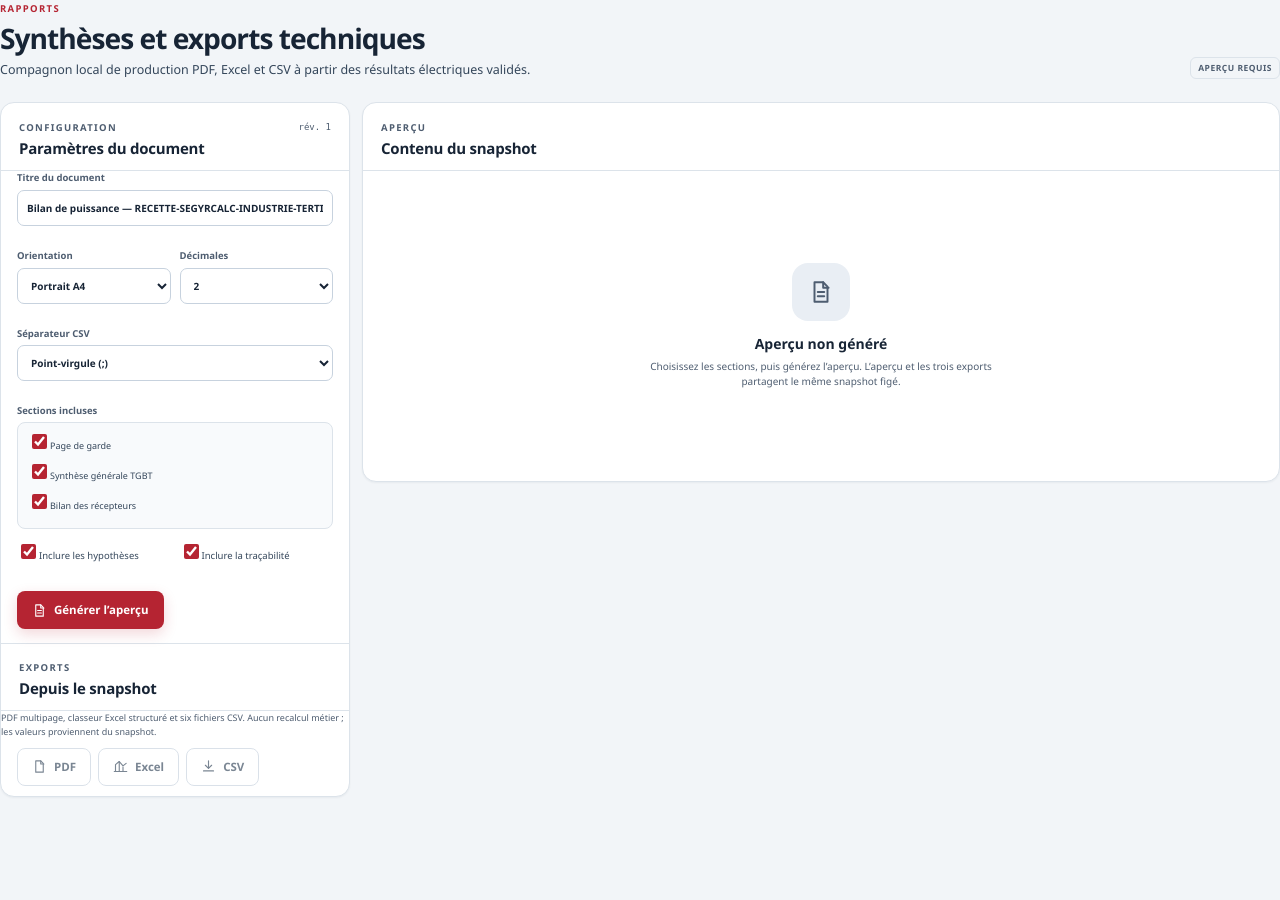
Scenario: ReportsScreen › génère un aperçu depuis le snapshot et affiche les valeurs moteur
The width and height of the screenshot is (1280, 900).
Click the button with test id "report-preview-generate": (90, 610) [17, 591, 164, 629]
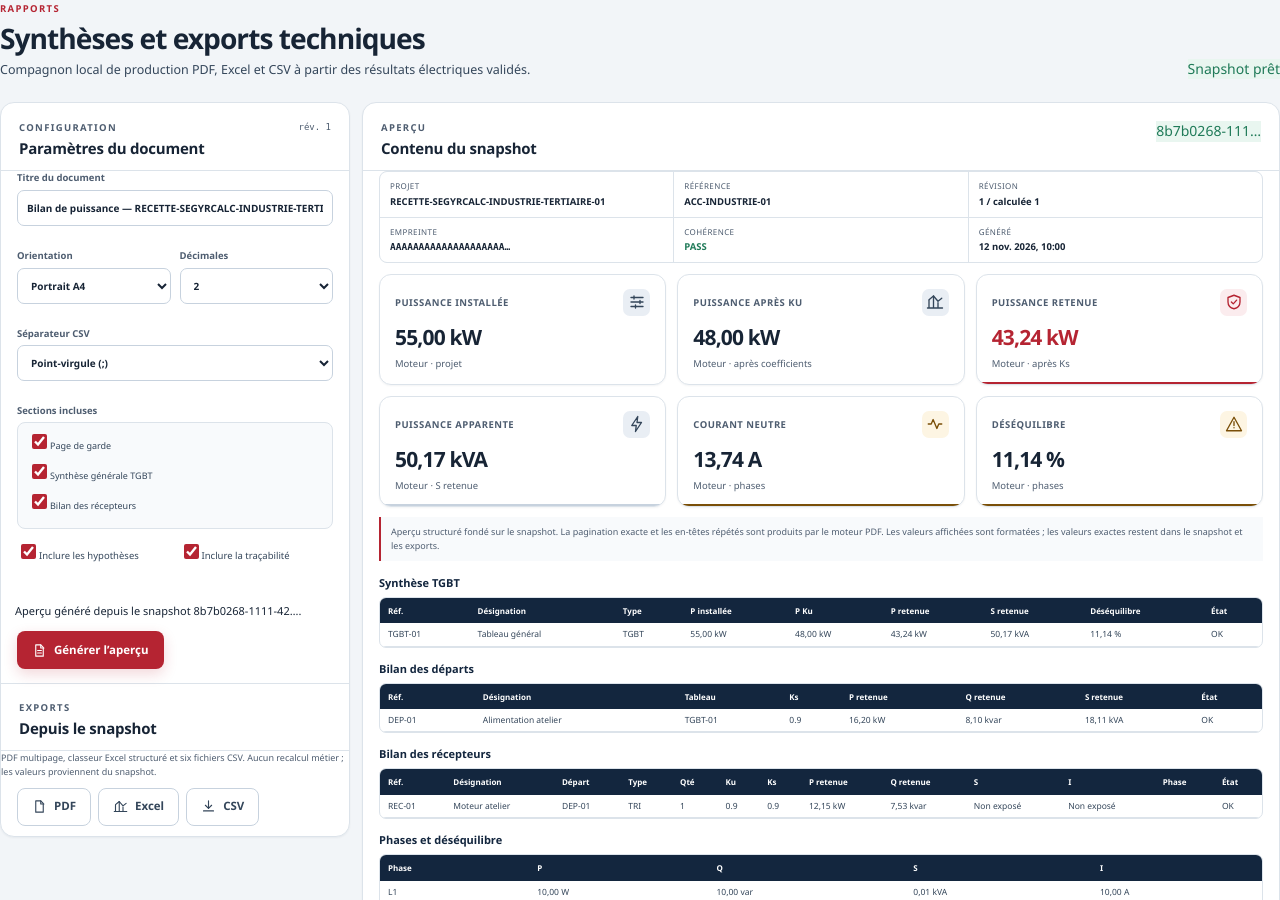
Now the text with test id "report-snapshot" shows "8b7b0268-111", box [1156, 121, 1261, 140]
Now the text "43,24 kW" below "Puissance retenue" is shown, box [992, 323, 1078, 351]
Now the text "Non exposé" is shown 2 times, box [974, 800, 1021, 811]; [1068, 800, 1116, 811]
